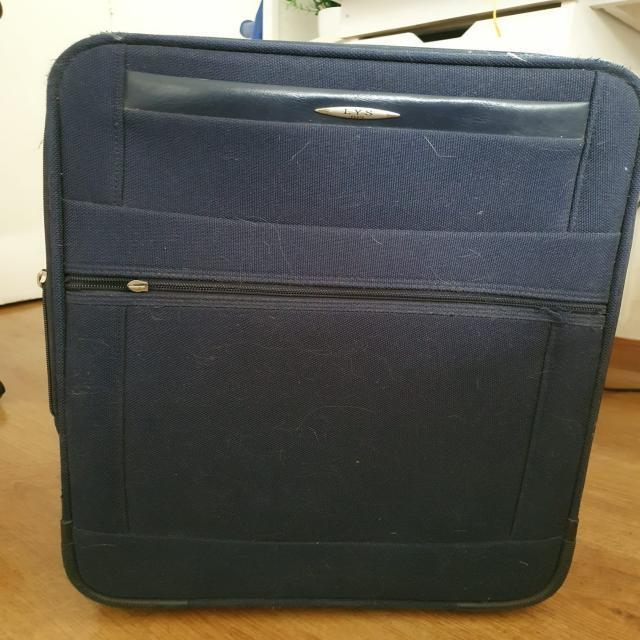Suitcase: (40, 27, 640, 607)
